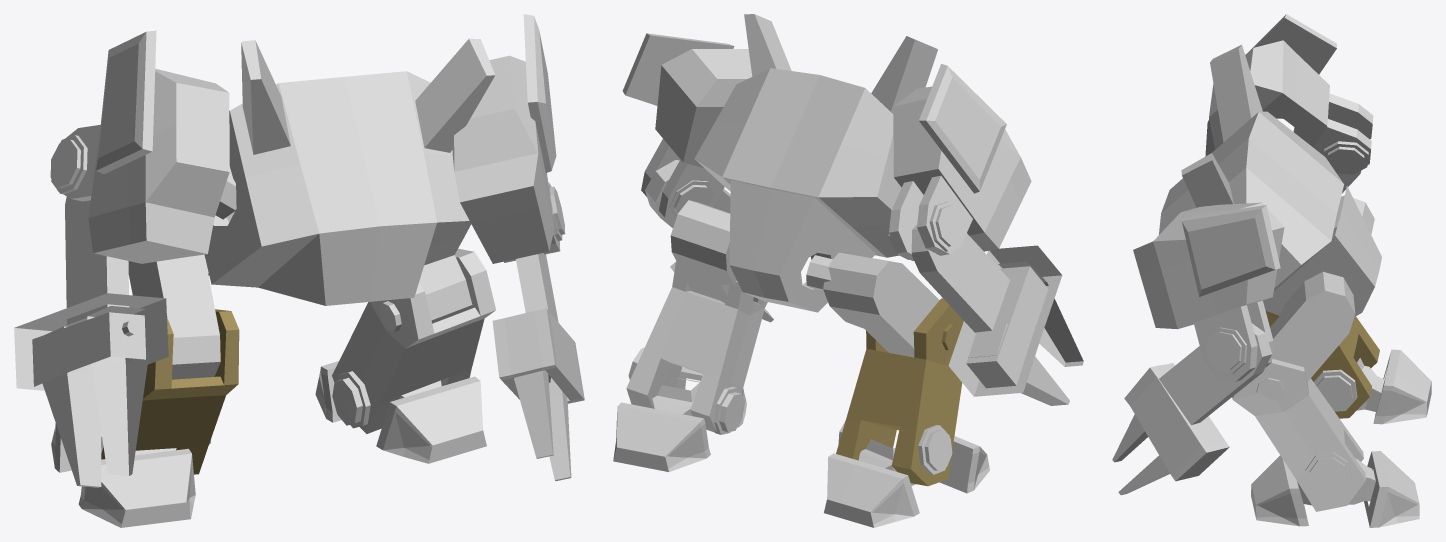
The model's file is robot_test_01.gltf.
The picture shows the model from 3 angles, left to right: view 1: azimuth 30°, elevation 25°; view 2: azimuth 150°, elevation 25°; view 3: azimuth 270°, elevation 25°; orthographic projection. The views are drawn at different scales.
Parts seen in each view (by area): view 1: Torso, Right_Shoulder, Left_Shoulder, Left_Lower_Leg, Right_Claw_Box, Right_Lower_Leg, Right_Thigh, Leftt_Toe, Right_Toe, Right_SHoulder_Wing, Left_Claw_Box, Right_Claw_Top (+13 smaller); view 2: Torso, Right_Lower_Leg, Left_Lower_Leg, Pelvis, Right_Shoulder, Right_Claw_Box, Right_Thigh, Left_Shoulder, Right_SHoulder_Wing, Right_Forearm, Left_Heel, Right_Heel (+17 smaller); view 3: Torso, Left_Lower_Leg, Left_Shoulder, Left_Shoulder_Wing, Right_Shoulder, Left_Thigh, Left_Claw_Box, Pelvis, Left_Forearm, Right_Wing, Right_Heel, Left_Heel (+15 smaller).
Part boxes in pixels (<box>): Torso: <box>204,71,471,305</box>; Right_Shoulder: <box>88,68,229,263</box>; Left_Shoulder: <box>452,55,554,263</box>; Left_Lower_Leg: <box>332,248,495,433</box>; Right_Claw_Box: <box>14,293,168,390</box>; Right_Lower_Leg: <box>101,309,239,474</box>; Right_Thigh: <box>128,254,220,379</box>; Leftt_Toe: <box>376,376,486,463</box>; Right_Toe: <box>78,448,195,527</box>; Right_SHoulder_Wing: <box>96,30,156,174</box>; Left_Claw_Box: <box>492,308,584,403</box>; Right_Claw_Top: <box>87,306,149,475</box>; Torso: <box>694,68,901,257</box>; Right_Lower_Leg: <box>836,298,963,486</box>; Left_Lower_Leg: <box>626,261,767,432</box>; Pelvis: <box>729,180,875,312</box>; Right_Shoulder: <box>893,86,1031,251</box>; Right_Claw_Box: <box>948,245,1062,396</box>; Right_Thigh: <box>823,252,939,357</box>; Left_Shoulder: <box>655,49,752,168</box>; Right_SHoulder_Wing: <box>919,64,1006,193</box>; Right_Forearm: <box>911,224,1009,332</box>; Left_Heel: <box>613,402,710,471</box>; Right_Heel: <box>824,453,919,527</box>; Torso: <box>1159,111,1343,290</box>; Left_Lower_Leg: <box>1232,358,1365,511</box>; Left_Shoulder: <box>1133,202,1284,329</box>; Left_Shoulder_Wing: <box>1181,205,1280,296</box>; Right_Shoulder: <box>1205,40,1329,156</box>; Left_Thigh: <box>1270,271,1355,382</box>; Left_Claw_Box: <box>1124,363,1229,481</box>; Pelvis: <box>1263,186,1381,316</box>; Left_Forearm: <box>1159,323,1271,425</box>; Right_Wing: <box>1210,44,1262,142</box>; Right_Heel: <box>1373,349,1431,424</box>; Left_Heel: <box>1364,451,1419,527</box>.
Bounding box in the file's own units: 18.92 × 17.41 × 13.13.
